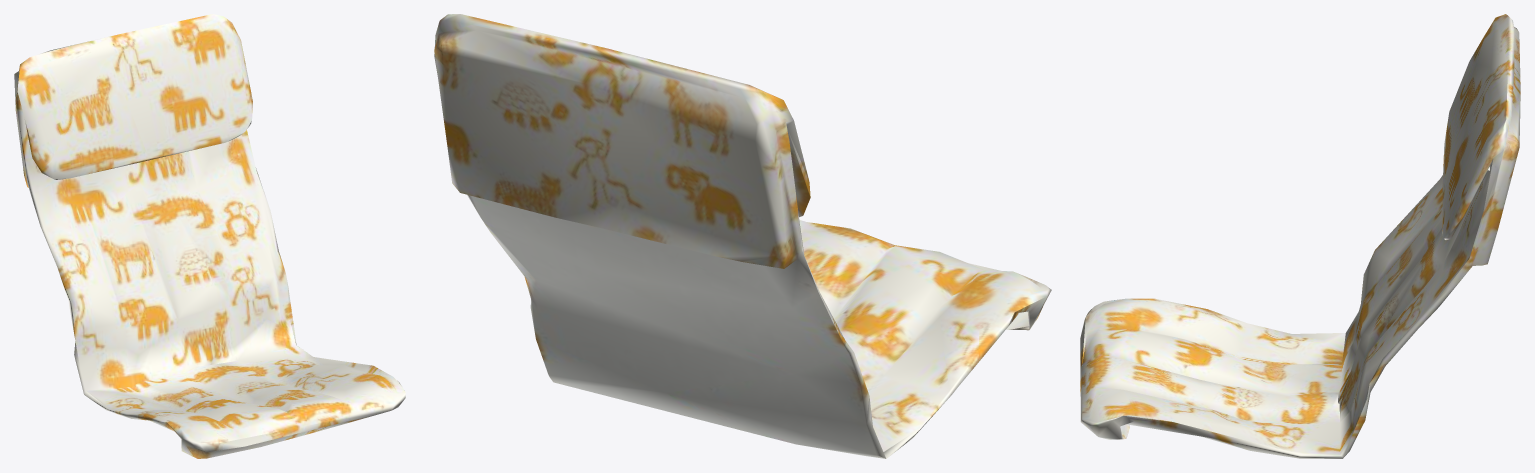
Rendered from 02 - POÄNG Children_s armchair cushion - Skogbo animal pattern.glb.
3 renders of one model, left to right at view 1: azimuth 30°, elevation 25°; view 2: azimuth 150°, elevation 25°; view 3: azimuth 270°, elevation 25°, orthographic. The views are drawn at different scales.
Visible parts, largest first — view 1: ASY_ART_30597687_S01_NV01; view 2: ASY_ART_30597687_S01_NV01; view 3: ASY_ART_30597687_S01_NV01.
Boxes of the visible parts, x1=… form: ASY_ART_30597687_S01_NV01: x1=14, y1=14, x2=405, y2=458; ASY_ART_30597687_S01_NV01: x1=434, y1=14, x2=1051, y2=458; ASY_ART_30597687_S01_NV01: x1=1080, y1=14, x2=1520, y2=458.
Bounding box in the file's own units: 0.4026 × 0.5076 × 0.5935.
Materials: 1 (1 with a texture image).
